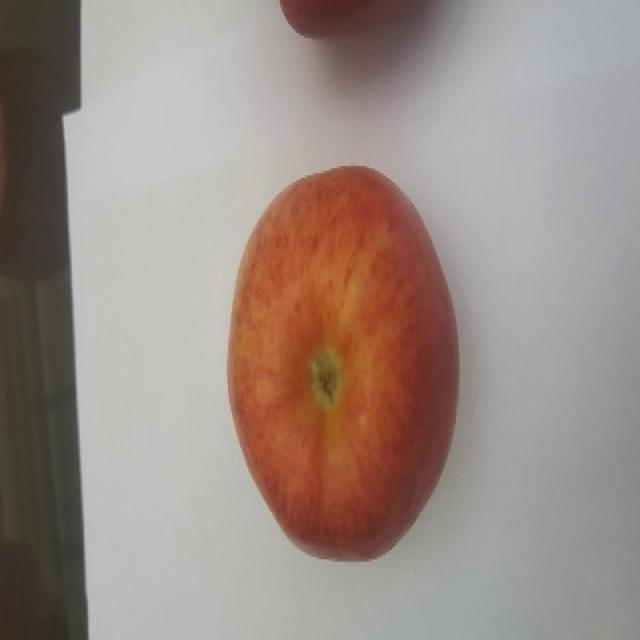Apple: (226, 163, 460, 562)
